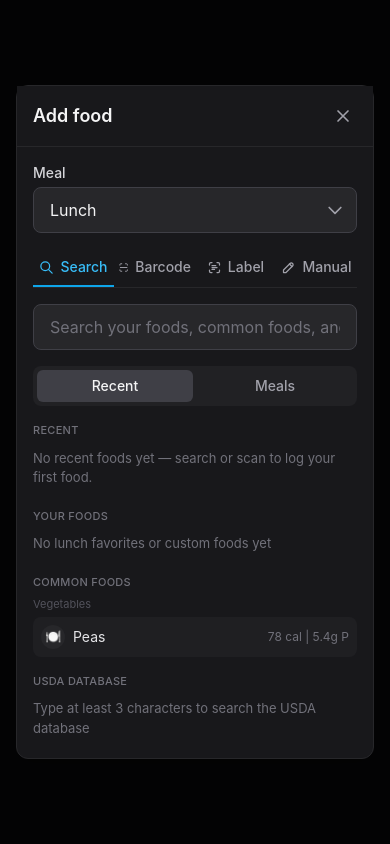
Test: last-used amount prefills the next add of the same food › remembers 150g and prefills it on re-selection
The image size is (390, 844).
Click the text "Peas" at (89,636), box [73, 626, 105, 646]
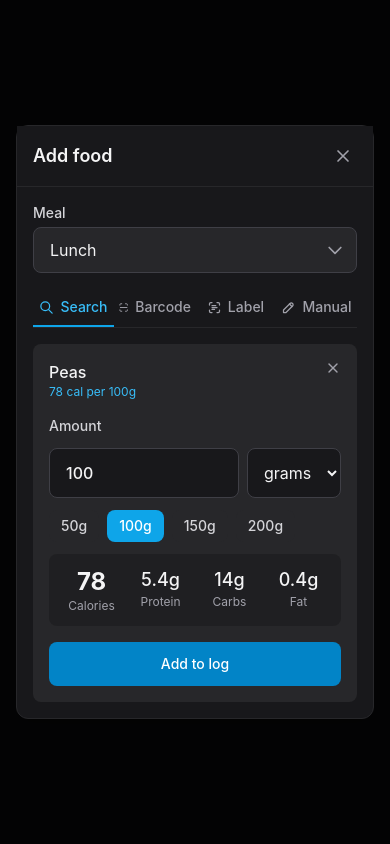
Replace the text in the number field with test id "add-food-amount" with "150" at (144,473), box [49, 448, 239, 498]
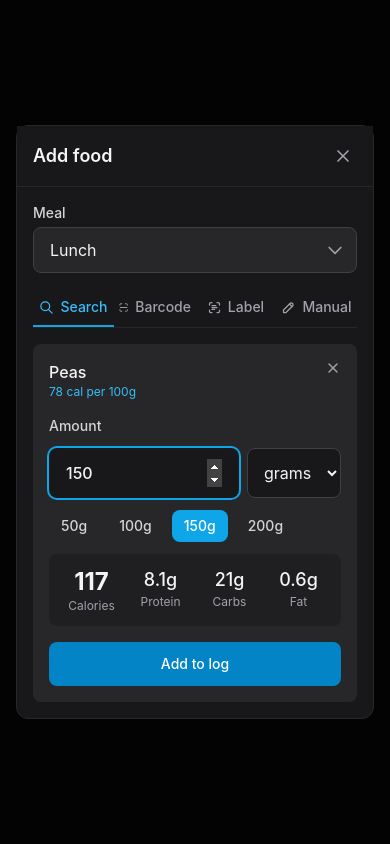
Click the button "Add to log" at (195,664), box [49, 642, 341, 686]
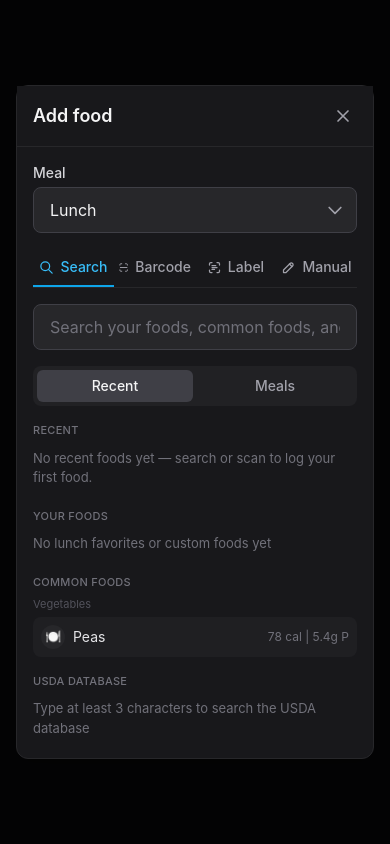
Click the text "Peas" at (89,636), box [73, 626, 105, 646]
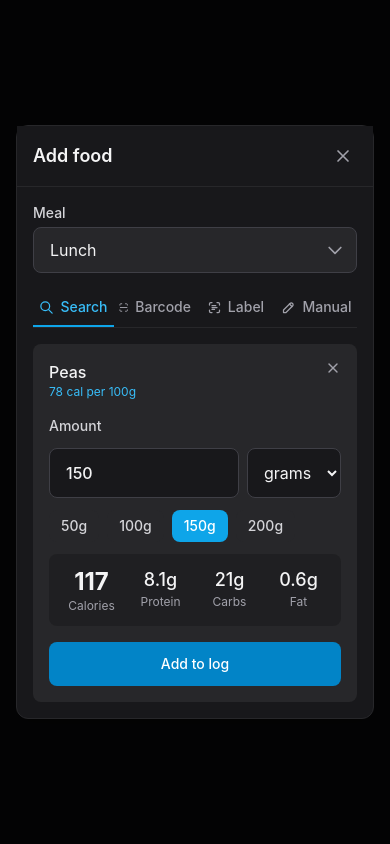
Expected: the number field with test id "add-food-amount" holds "150", [49, 448, 239, 498]
Expected: the button "150g" is shown, [172, 510, 228, 542]
